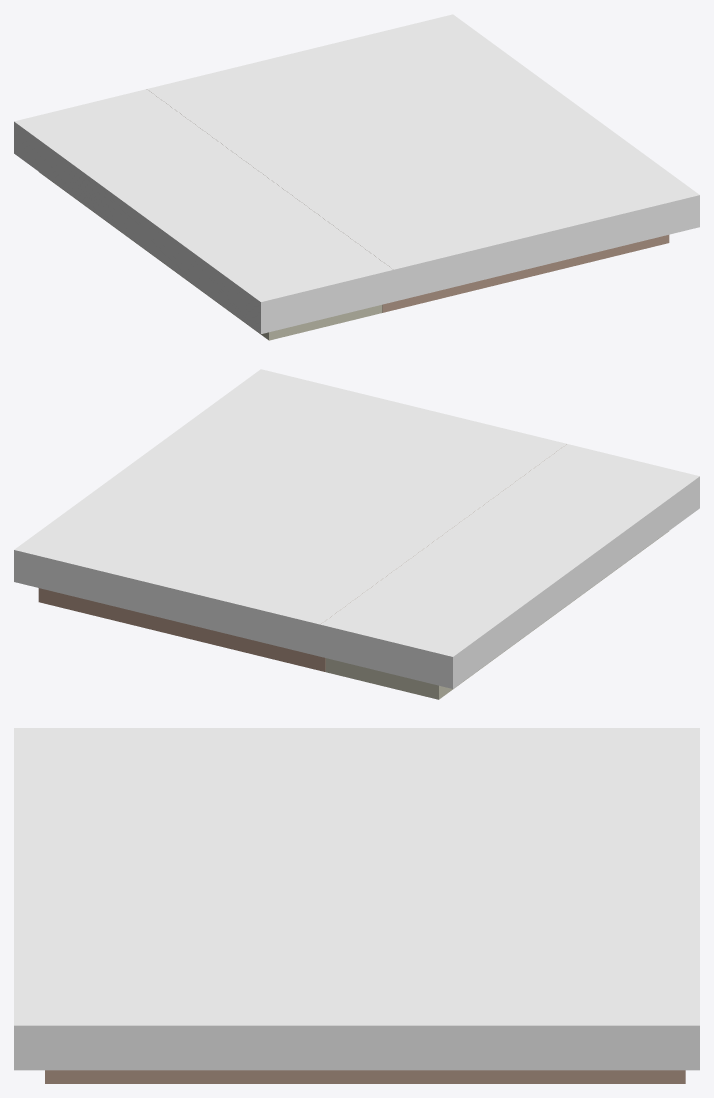
3 renders of one model, top to bottom at view 1: azimuth 30°, elevation 25°; view 2: azimuth 150°, elevation 25°; view 3: azimuth 270°, elevation 25°, orthographic. The views are drawn at different scales.
Visible parts, largest first — view 1: HIT-09_UpImpluvium, MainModel:1, MainModel:0; view 2: HIT-09_UpImpluvium, MainModel:1, MainModel:0; view 3: HIT-09_UpImpluvium, MainModel:1.
Boxes of the visible parts, left/top/right/bottom form: HIT-09_UpImpluvium: left=14, top=14, right=699, bottom=333; MainModel:1: left=151, top=92, right=669, bottom=312; MainModel:0: left=39, top=172, right=382, bottom=340; HIT-09_UpImpluvium: left=14, top=369, right=699, bottom=688; MainModel:1: left=38, top=444, right=566, bottom=671; MainModel:0: left=325, top=531, right=668, bottom=699; HIT-09_UpImpluvium: left=14, top=728, right=699, bottom=1070; MainModel:1: left=45, top=1070, right=685, bottom=1083.
Size of the model in its own units: 1.66 by 0.1882 by 1.62.
